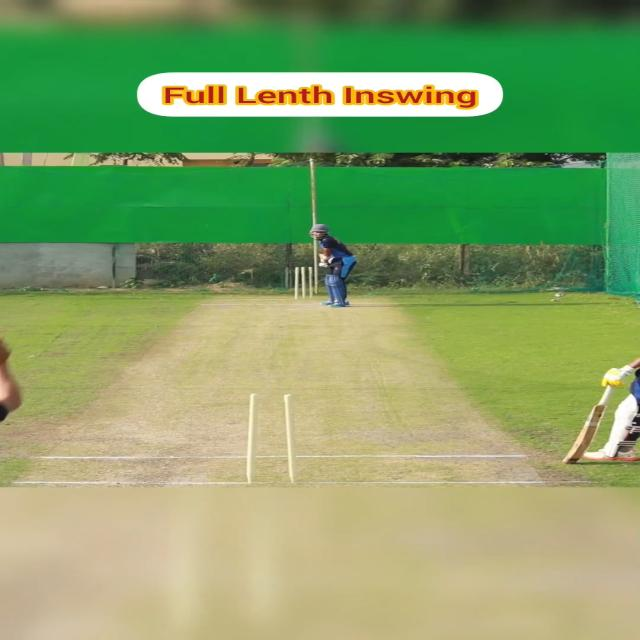stump: (245, 392, 301, 484), (293, 265, 315, 300)
